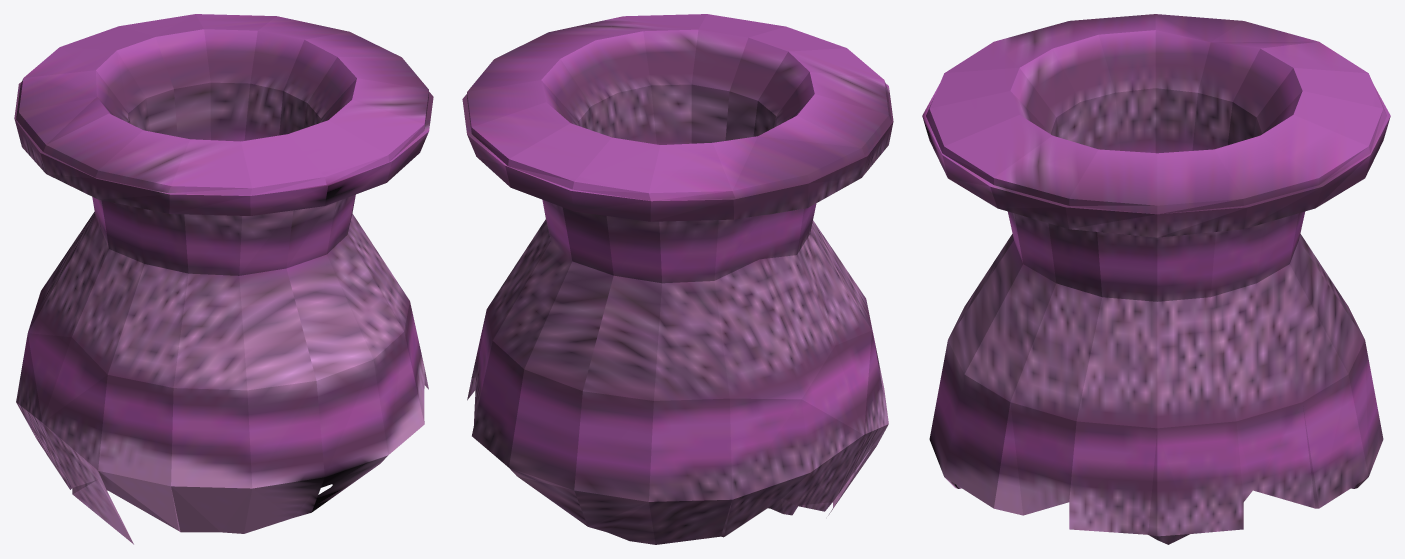
Rendered from BVase5.glb.
The picture shows the model from 3 angles, left to right: view 1: azimuth 30°, elevation 25°; view 2: azimuth 150°, elevation 25°; view 3: azimuth 270°, elevation 25°; orthographic projection. The views are drawn at different scales.
Parts seen in each view (by area): view 1: BVase5; view 2: BVase5; view 3: BVase5.
Boxes of the visible parts, box(x1,y1,x2,y2) form: BVase5: box(14, 14, 433, 544); BVase5: box(462, 14, 893, 544); BVase5: box(922, 14, 1390, 544).
Bounding box in the file's own units: 77.3 × 83.24 × 77.98.
Materials: 1 (1 with a texture image).
